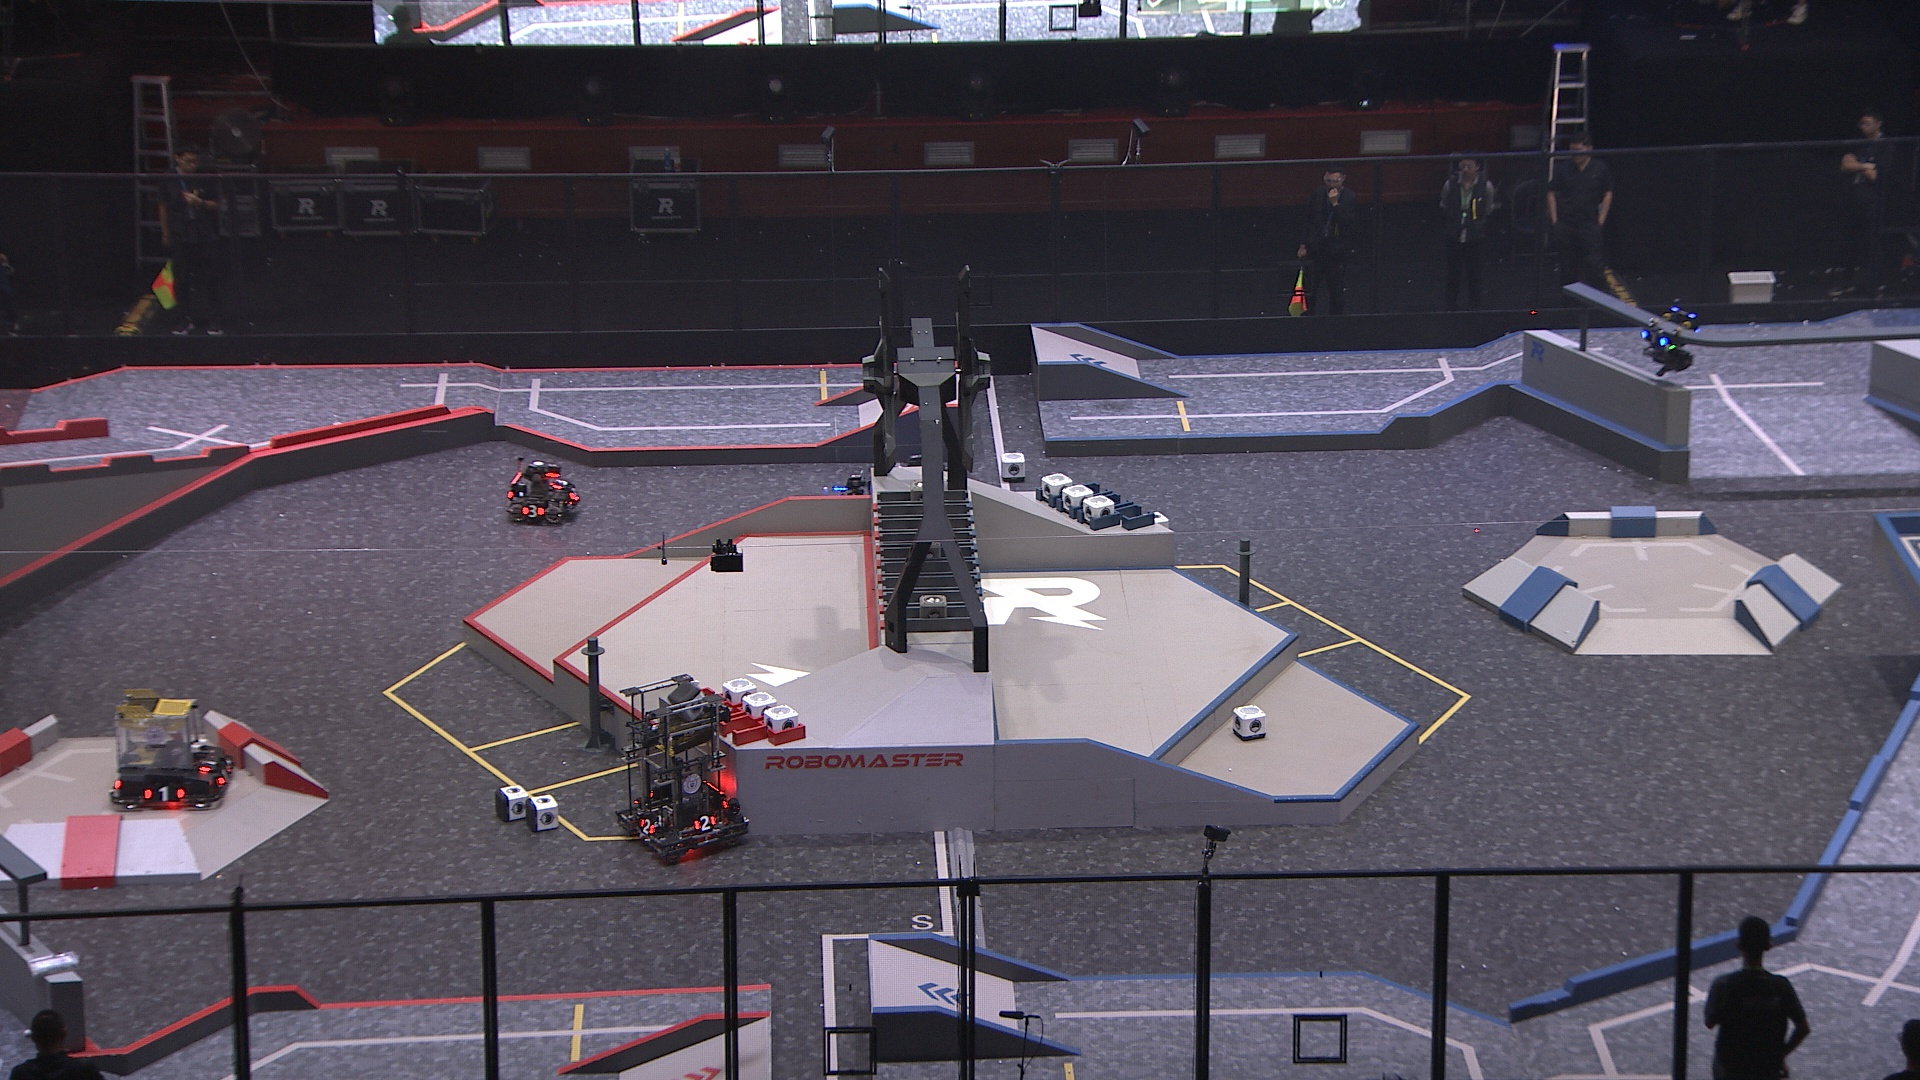armor: (141, 785, 190, 803), (1640, 328, 1669, 349), (212, 761, 233, 789), (196, 752, 218, 775), (690, 815, 719, 832), (520, 502, 543, 520), (638, 818, 659, 836), (547, 473, 570, 491), (566, 484, 580, 505)
car: (612, 666, 764, 860), (109, 684, 243, 808), (501, 451, 585, 524), (818, 467, 899, 541)
watcher: (1634, 291, 1702, 381)
